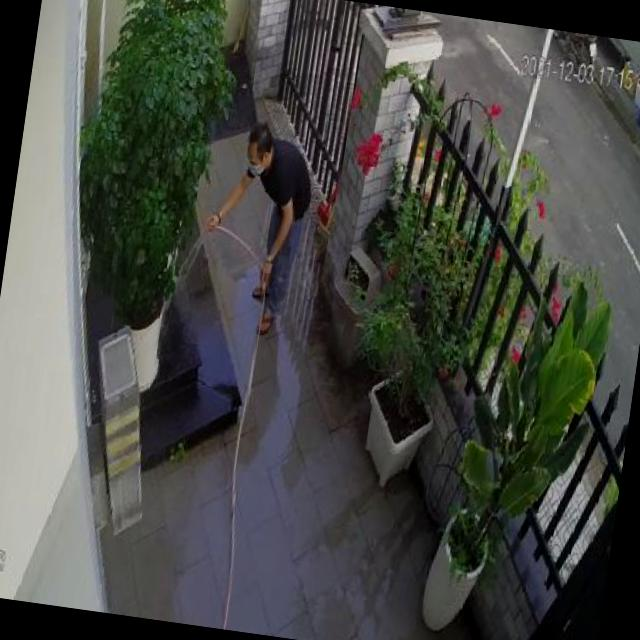Person: (190, 118, 319, 344)
